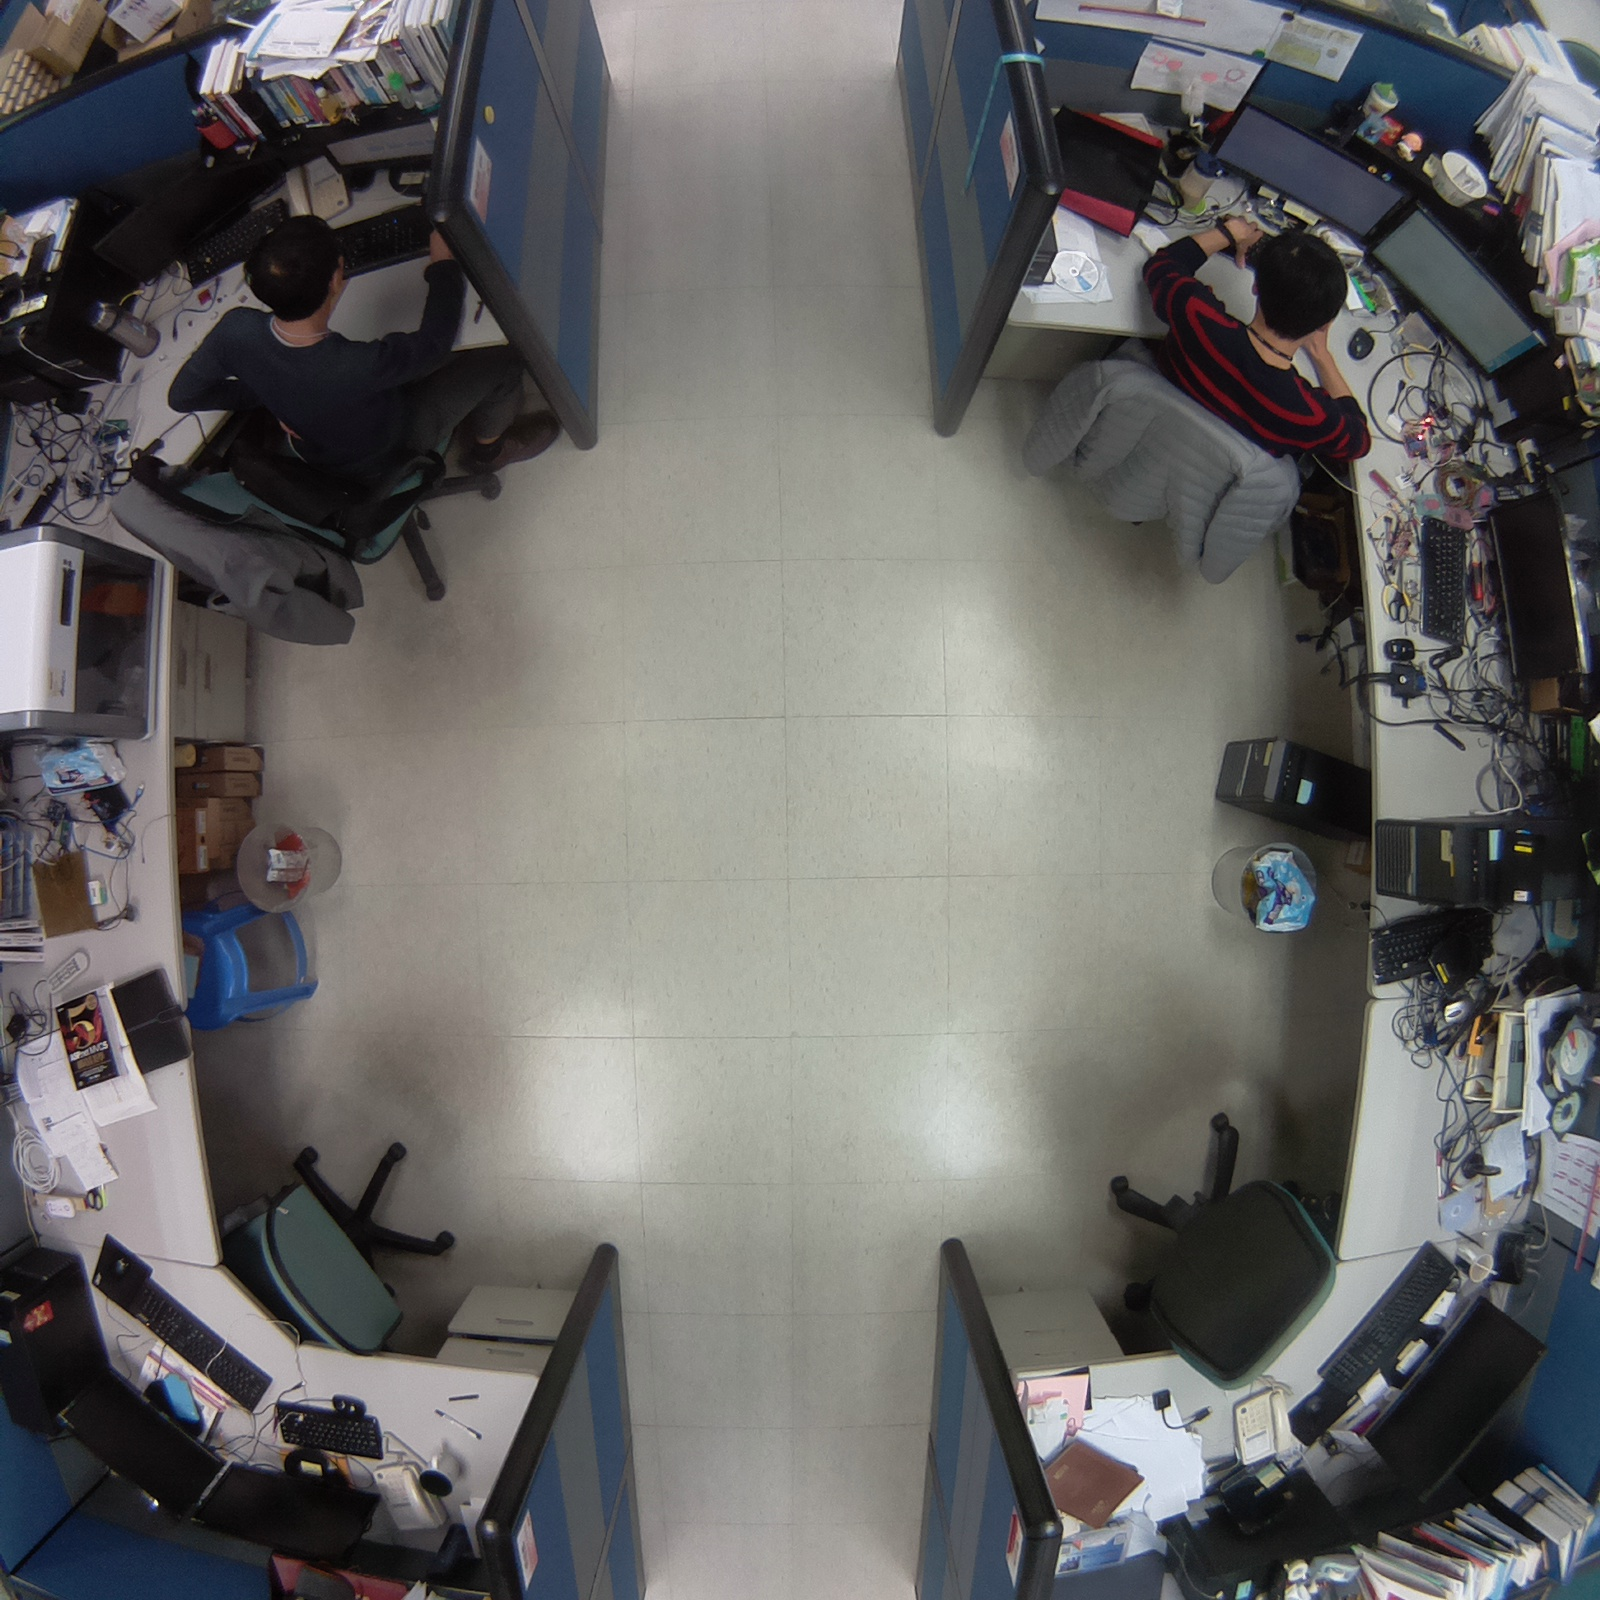chair: (1096, 1101, 1347, 1401), (212, 1127, 476, 1370)
head: (232, 208, 353, 323), (1242, 221, 1353, 342)
sitting: (101, 204, 583, 655), (1004, 209, 1380, 599)
